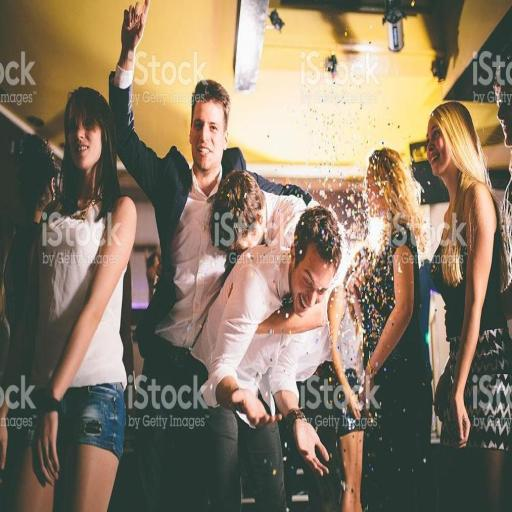person: (110, 0, 246, 392), (14, 88, 136, 511), (193, 207, 341, 510), (428, 102, 511, 511), (352, 148, 432, 511), (501, 150, 511, 319)
